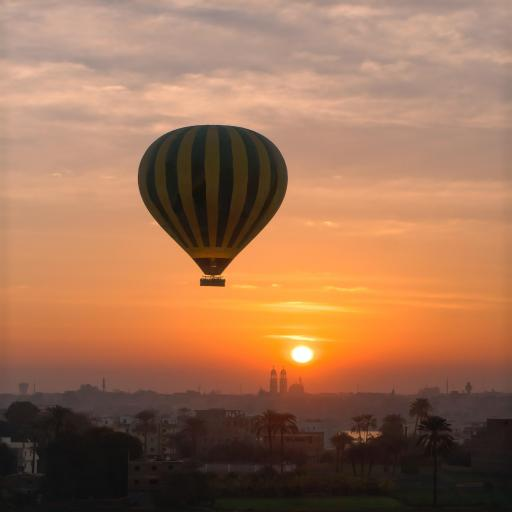hot air ballon: (137, 126, 287, 286)
